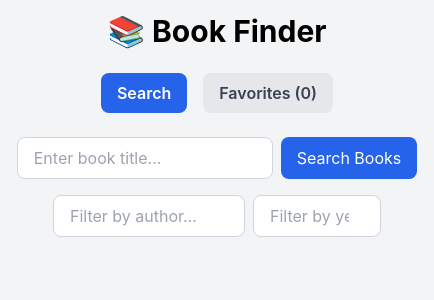
Scenario: BookFinder Component › shows error when no books found
In the field with placeholder "Enter book title...": (145, 158) 17,137 -> 273,179, type "Unknown"
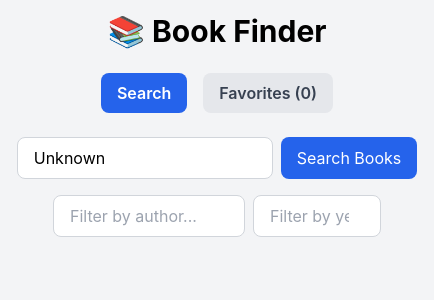
Click the button "Search Books": (349, 158) 281,137 -> 417,179
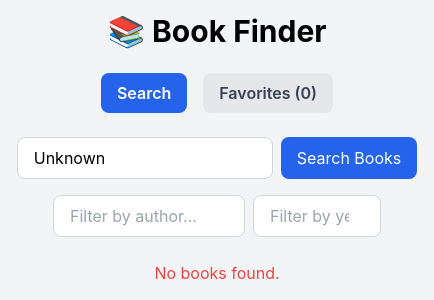
Now the text "No books found." is shown, box 154,263 -> 280,283
